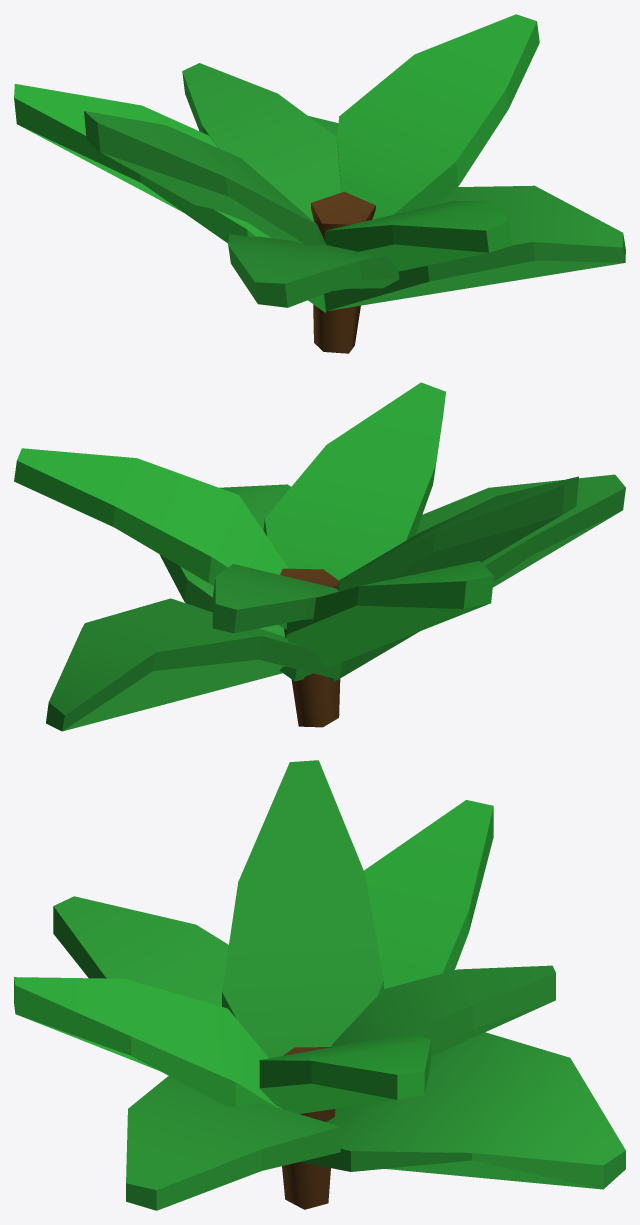
The model's file is Bush_1.fbx.
3 views of the same model, one above another, from view 1: azimuth 30°, elevation 25°; view 2: azimuth 150°, elevation 25°; view 3: azimuth 270°, elevation 25° (orthographic). The views are drawn at different scales.
Parts seen in each view (by area): view 1: Bush_1; view 2: Bush_1; view 3: Bush_1.
Boxes of the visible parts, x1,y1,x2,y2 form: Bush_1: [14, 14, 625, 353]; Bush_1: [14, 382, 625, 731]; Bush_1: [14, 760, 625, 1210].
Size of the model in its own units: 400 by 228 by 404.
Materials: 1 (1 with a texture image).
